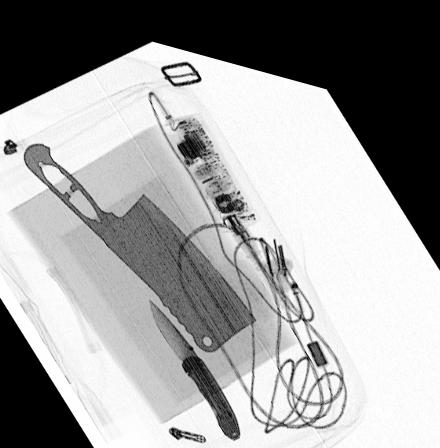Knife: (22, 141, 256, 341), (148, 291, 240, 428)
